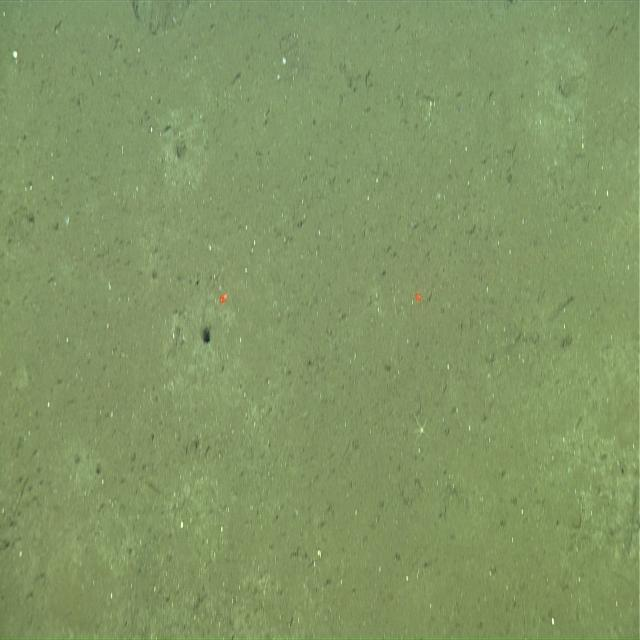Brittle Star: (408, 406, 437, 454)
